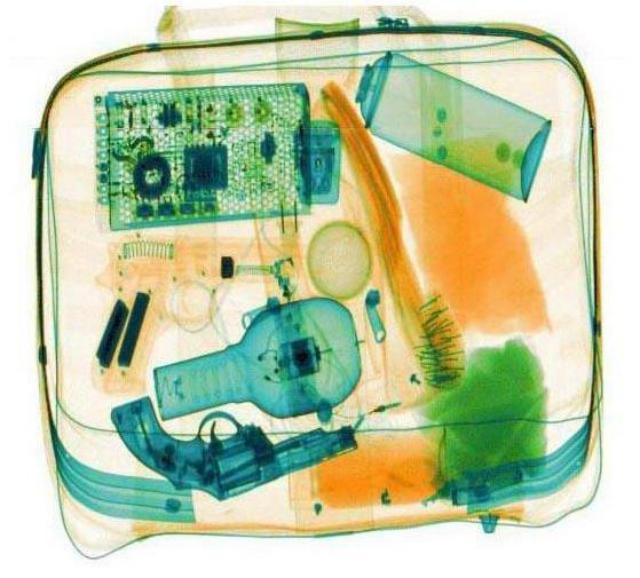Gun: (105, 393, 355, 500)
